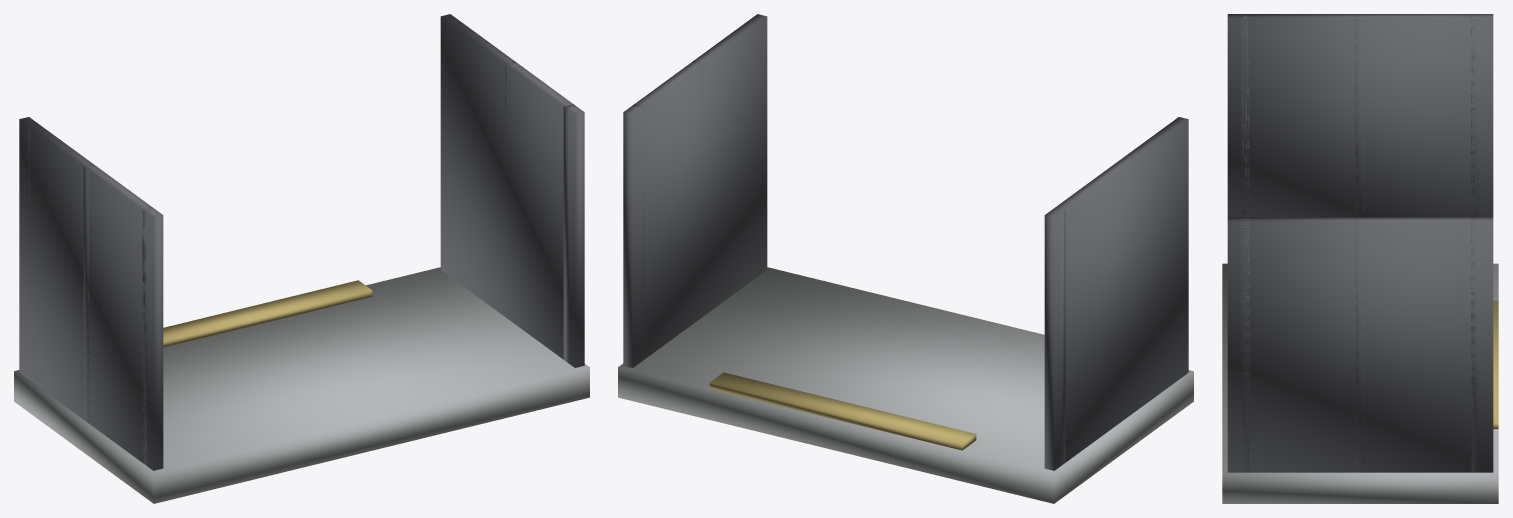
Rendered from floor_w180_d100_sides.glb.
The picture shows the model from 3 angles, left to right: view 1: azimuth 30°, elevation 25°; view 2: azimuth 150°, elevation 25°; view 3: azimuth 270°, elevation 25°; orthographic projection.
Parts seen in each view (by area): view 1: world; view 2: world; view 3: world.
Part boxes in pixels (box(x1,y1,x2,y2)): world: box(14, 14, 589, 503); world: box(618, 14, 1193, 503); world: box(1222, 14, 1498, 503).
Size of the model in its own units: 1.8 by 1.12 by 1.
